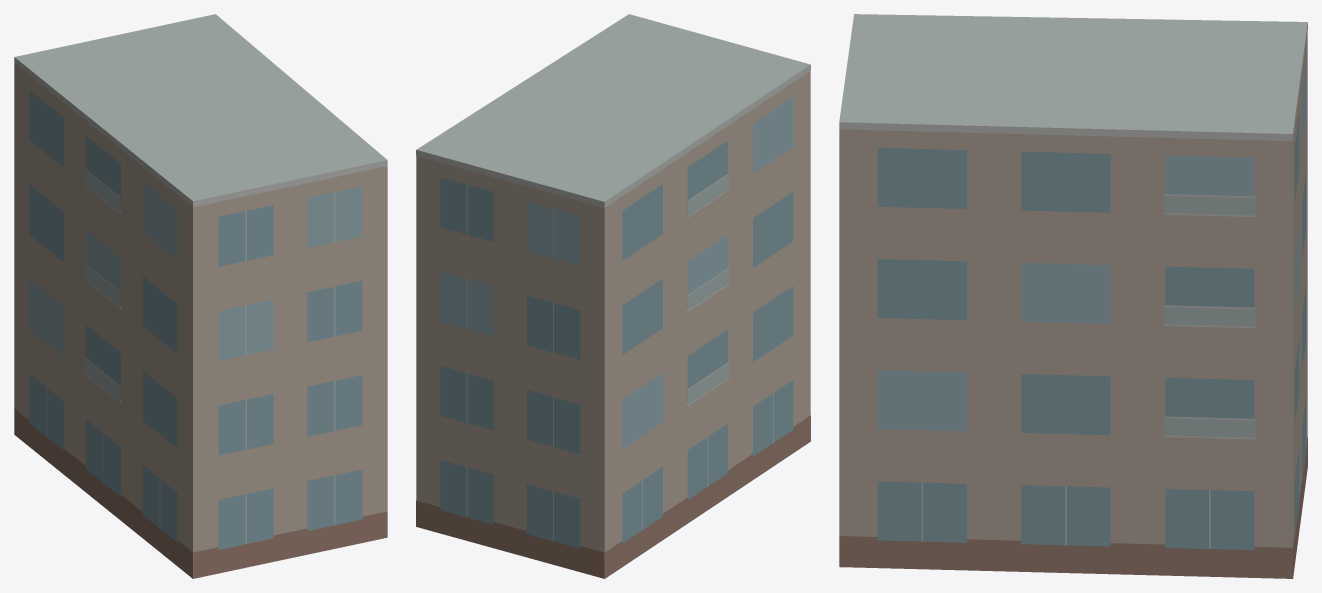
File: survey-upis-32908180.glb
3 renders of one model, left to right at view 1: azimuth 30°, elevation 25°; view 2: azimuth 150°, elevation 25°; view 3: azimuth 270°, elevation 25°, orthographic. The views are drawn at different scales.
Parts seen in each view (by area): view 1: survey-upis-32908180.tmp; view 2: survey-upis-32908180.tmp; view 3: survey-upis-32908180.tmp.
Part boxes in pixels (box(x1,y1,x2,y2)): survey-upis-32908180.tmp: box(14, 14, 387, 578); survey-upis-32908180.tmp: box(416, 14, 810, 578); survey-upis-32908180.tmp: box(839, 14, 1307, 578).
Bounding box in the file's own units: 8.87 × 15.3 × 14.62.
